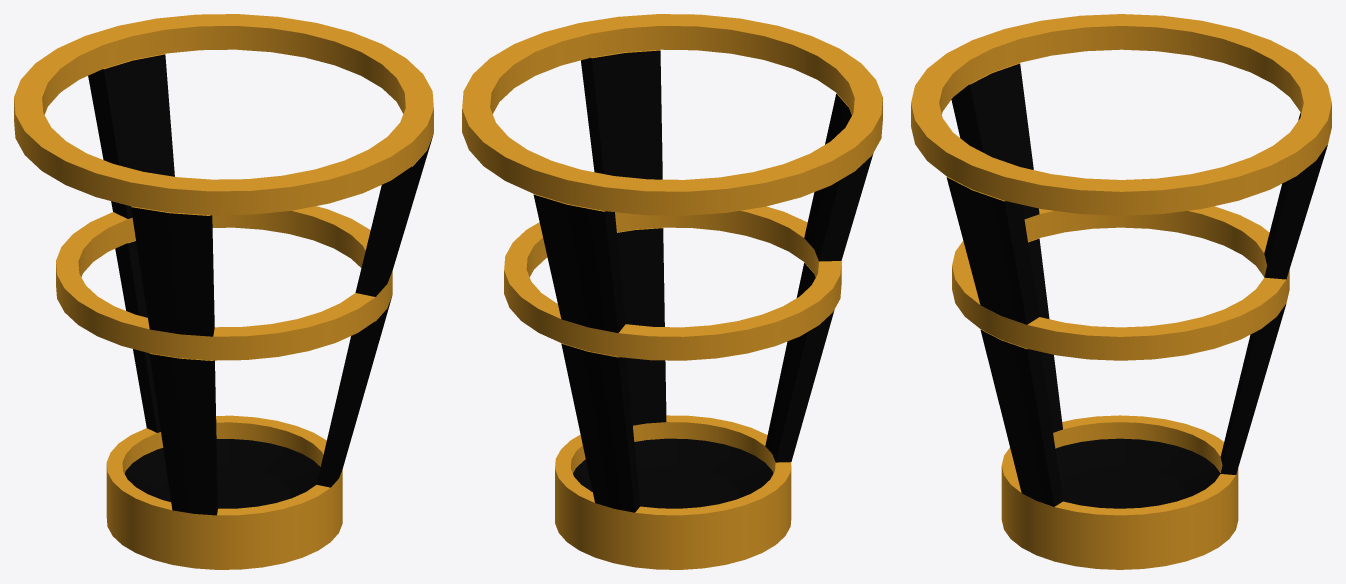
Rendered from Project02_Asset_Crystal_Container.fbx.
The picture shows the model from 3 angles, left to right: view 1: azimuth 30°, elevation 25°; view 2: azimuth 150°, elevation 25°; view 3: azimuth 270°, elevation 25°; orthographic projection.
Parts seen in each view (by area): view 1: Vessel 3; view 2: Vessel 3; view 3: Vessel 3.
Part boxes in pixels (box(x1,y1,x2,y2)): Vessel 3: box(14, 14, 433, 569); Vessel 3: box(462, 14, 882, 569); Vessel 3: box(911, 14, 1331, 569).
Size of the model in its own units: 31.82 by 34.78 by 31.82.
